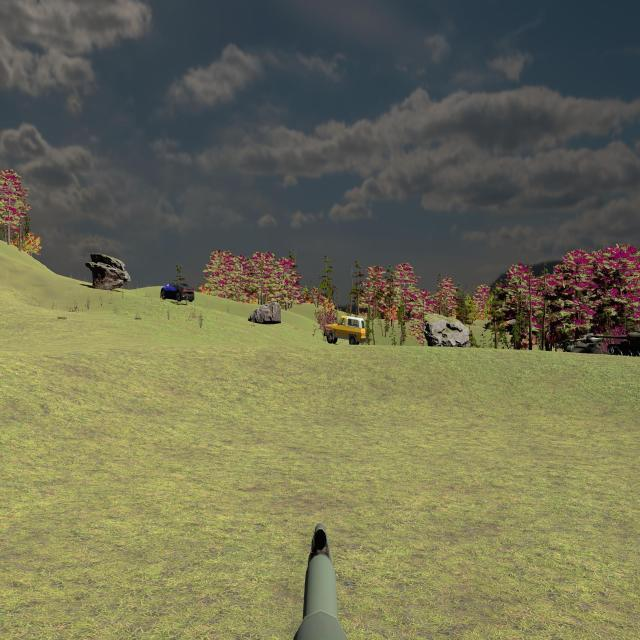Tank: (590, 330, 640, 358)
car: (324, 315, 366, 346), (160, 281, 195, 302)
